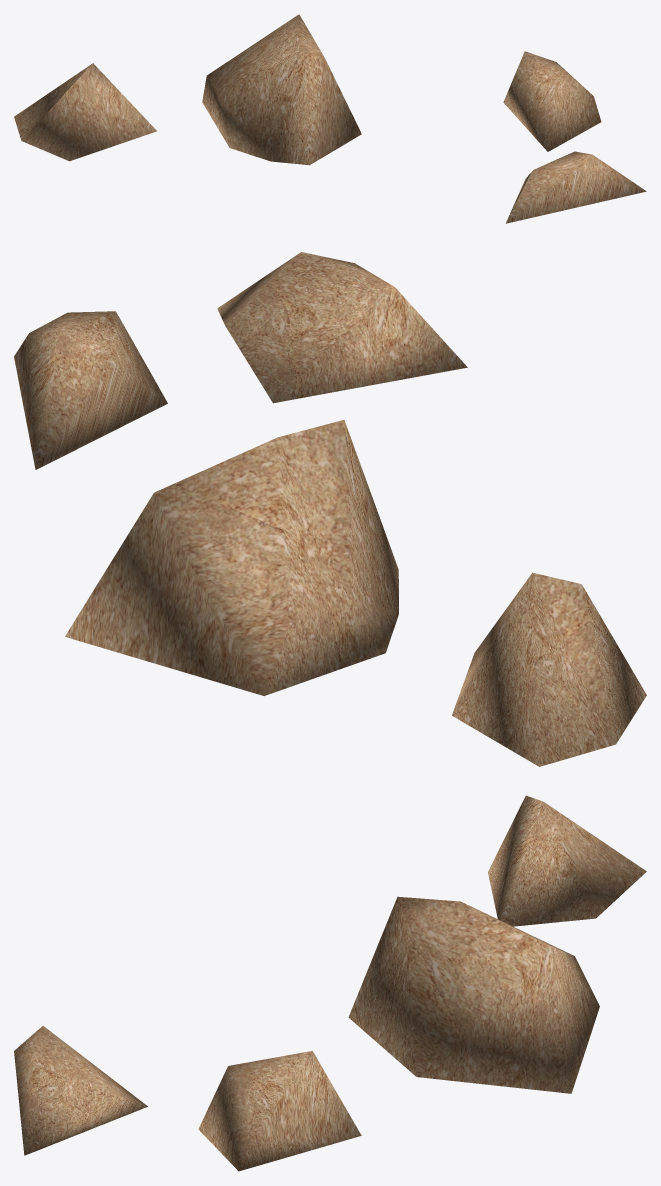
File: rock_pebbleclump_l2.fbx
3 renders of one model, top to bottom at view 1: azimuth 30°, elevation 25°; view 2: azimuth 150°, elevation 25°; view 3: azimuth 270°, elevation 25°, orthographic. The views are drawn at different scales.
Visible parts, largest first — view 1: mesh_node; view 2: mesh_node; view 3: mesh_node.
Boxes of the visible parts, x1,y1,x2,y2 form: mesh_node: (14,14,646,223); mesh_node: (14,252,646,766); mesh_node: (14,795,646,1171).
Bounding box in the file's own units: 0.8359 × 0.1805 × 0.7294.
